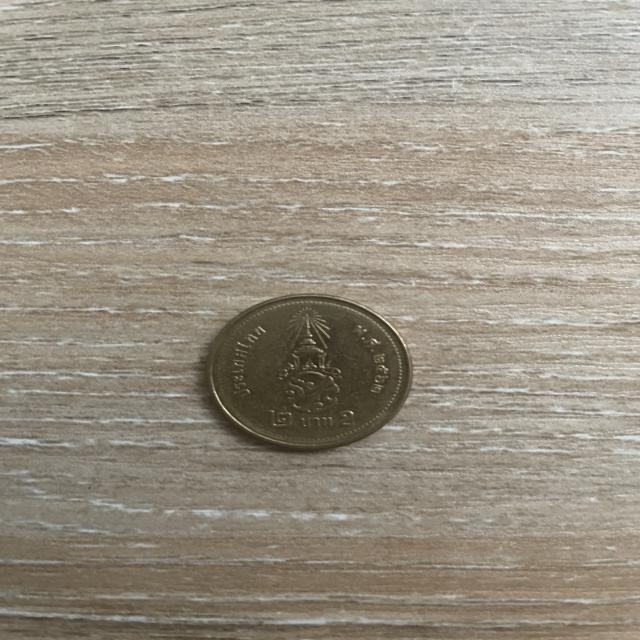2 Bath: (196, 289, 424, 459)
